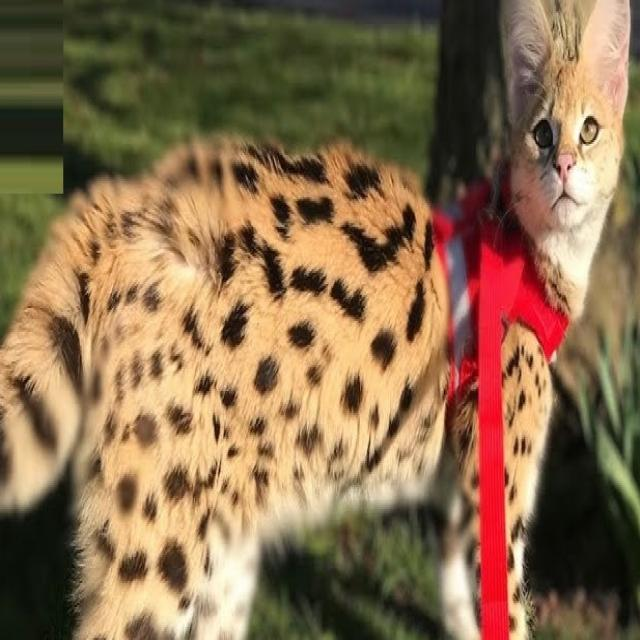Savannah: (0, 0, 633, 640)
